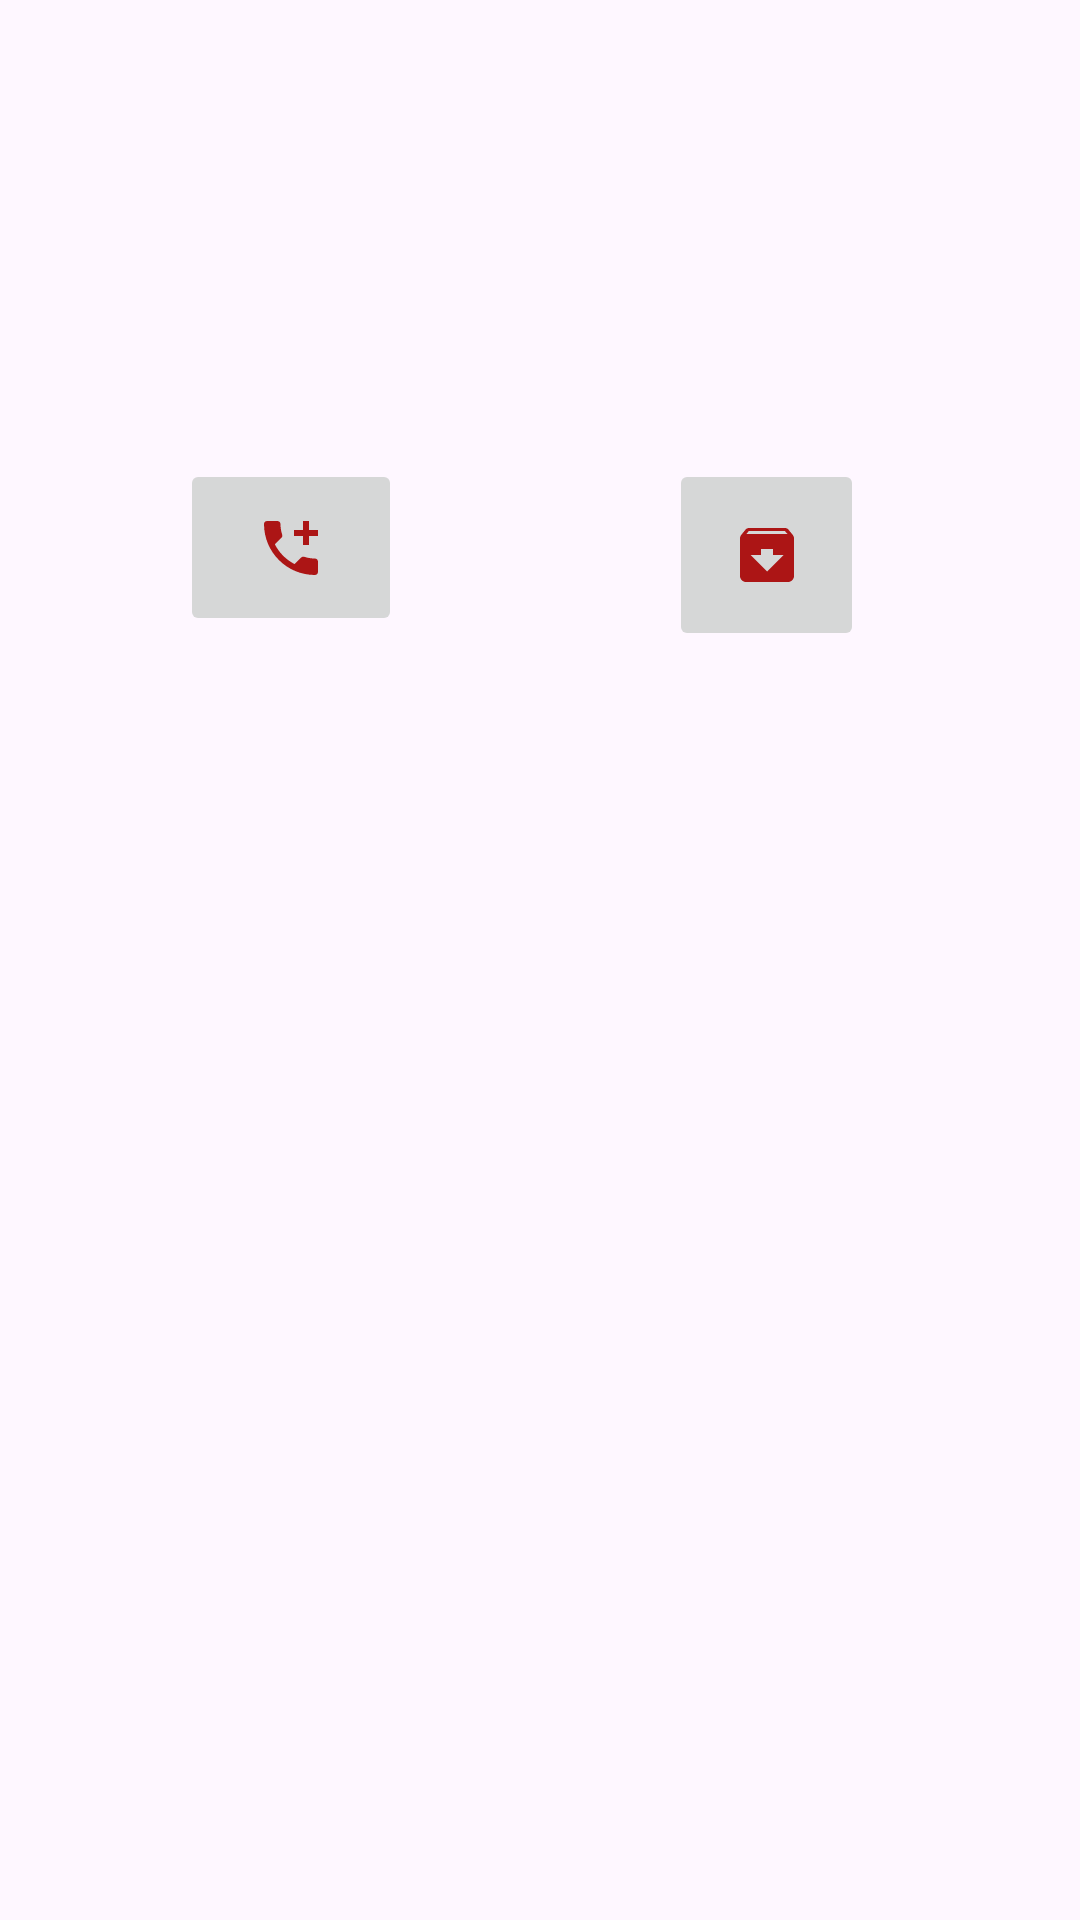

Icon click points for this 1080px x 1920px phone screenshot, format (x,y):
add call: (291,547)
archive: (766,555)
